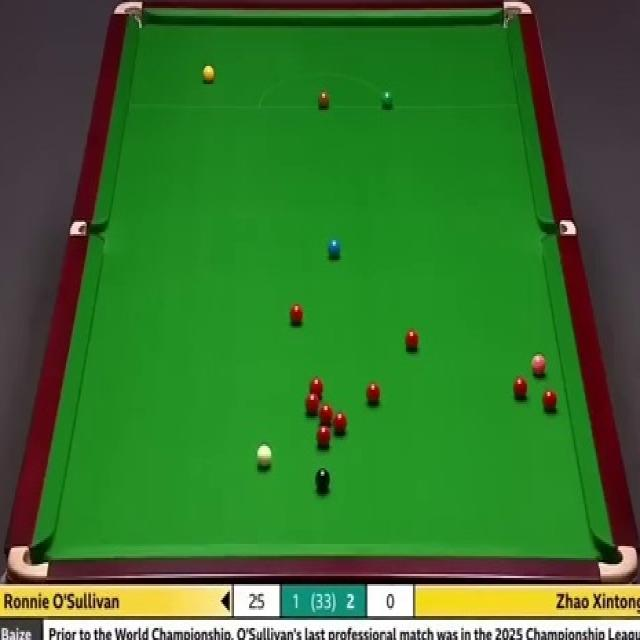black-ball: (314, 468, 331, 493)
blue-ball: (327, 237, 342, 258)
brown-ball: (317, 90, 330, 110)
green-ball: (382, 92, 394, 109)
pink-ball: (531, 352, 547, 378)
red-ball: (365, 381, 382, 405), (514, 376, 530, 401), (333, 412, 348, 437), (543, 389, 558, 412), (289, 304, 304, 326), (317, 426, 330, 449), (318, 406, 334, 424), (405, 330, 418, 352), (308, 377, 324, 394), (306, 392, 320, 408)
white-ball: (256, 444, 272, 469)
yellow-ball: (203, 65, 216, 86)
